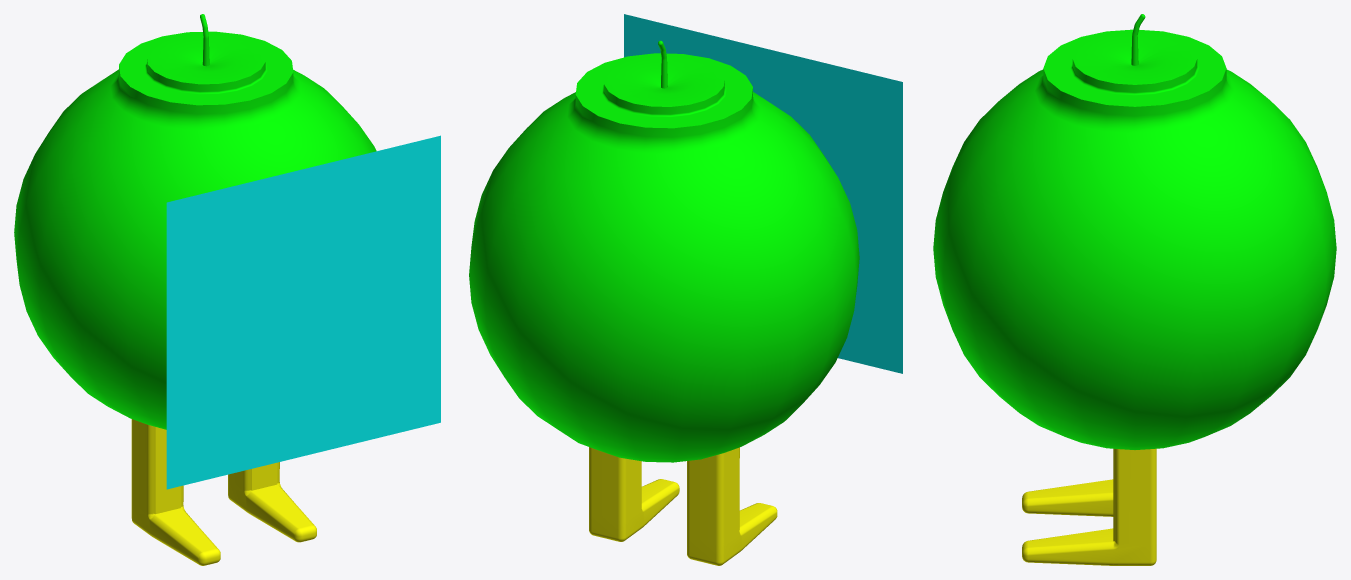
File: Bob-ombNoRig.fbx
The picture shows the model from 3 angles, left to right: view 1: azimuth 30°, elevation 25°; view 2: azimuth 150°, elevation 25°; view 3: azimuth 270°, elevation 25°; orthographic projection. The views are drawn at different scales.
Parts seen in each view (by area): view 1: Bob_omb; view 2: Bob_omb; view 3: Bob_omb.
Part boxes in pixels (bbox=[...]): Bob_omb: bbox=[14, 14, 440, 565]; Bob_omb: bbox=[469, 14, 902, 565]; Bob_omb: bbox=[933, 14, 1336, 565].
Bounding box in the file's own units: 20 × 28.46 × 20.1.
